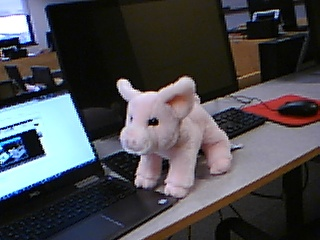piggy: (113, 74, 236, 202)
